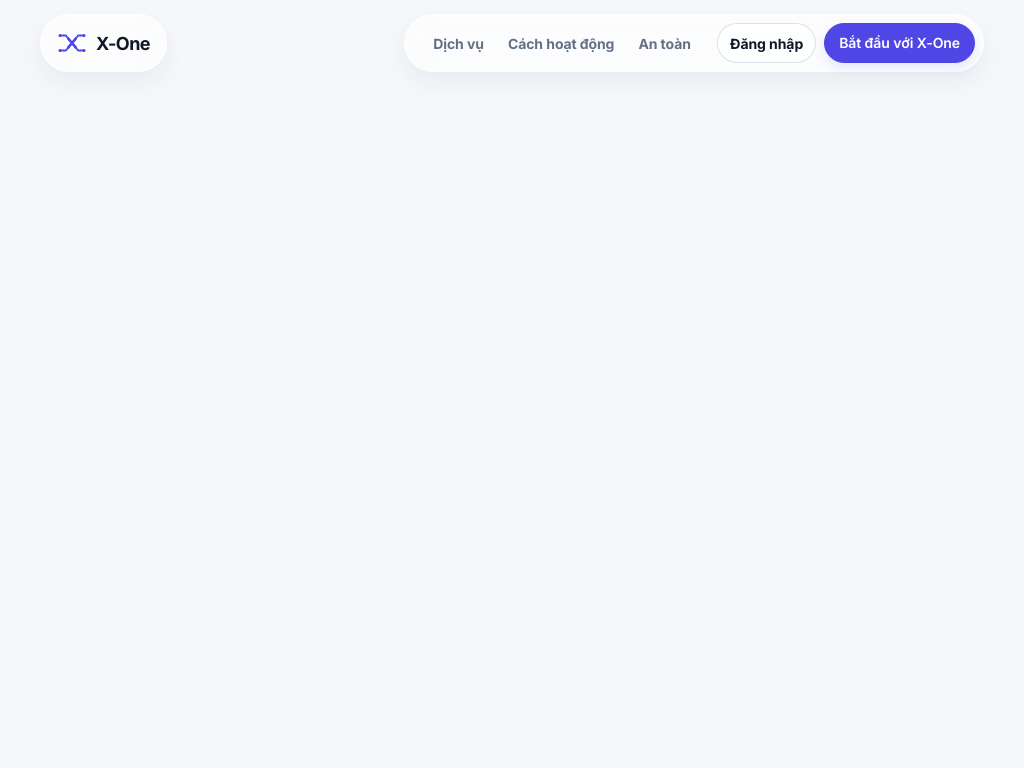
marketing authentication dialog › closes and routes incomplete accounts to onboarding after a successful modal login
Step 1. Click the button "Đăng nhập" → (767, 43), box [717,23,816,63]
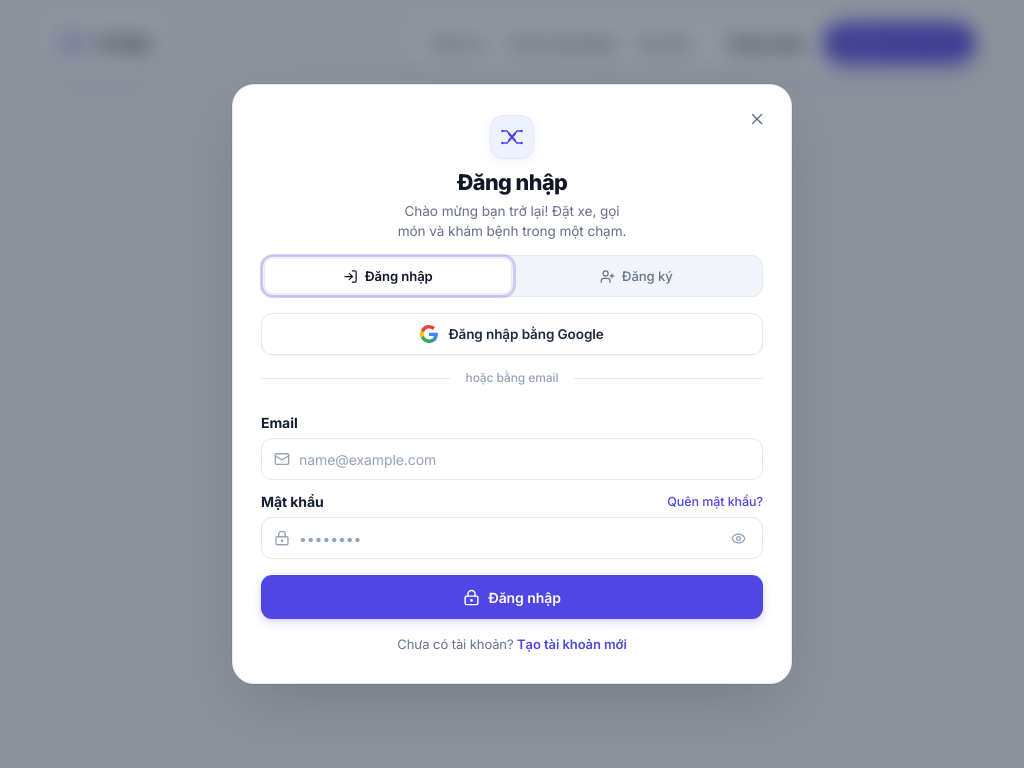
Step 2. Type "an@example.test" into the field labelled "Email" → (526, 459), box [299,439,752,479]
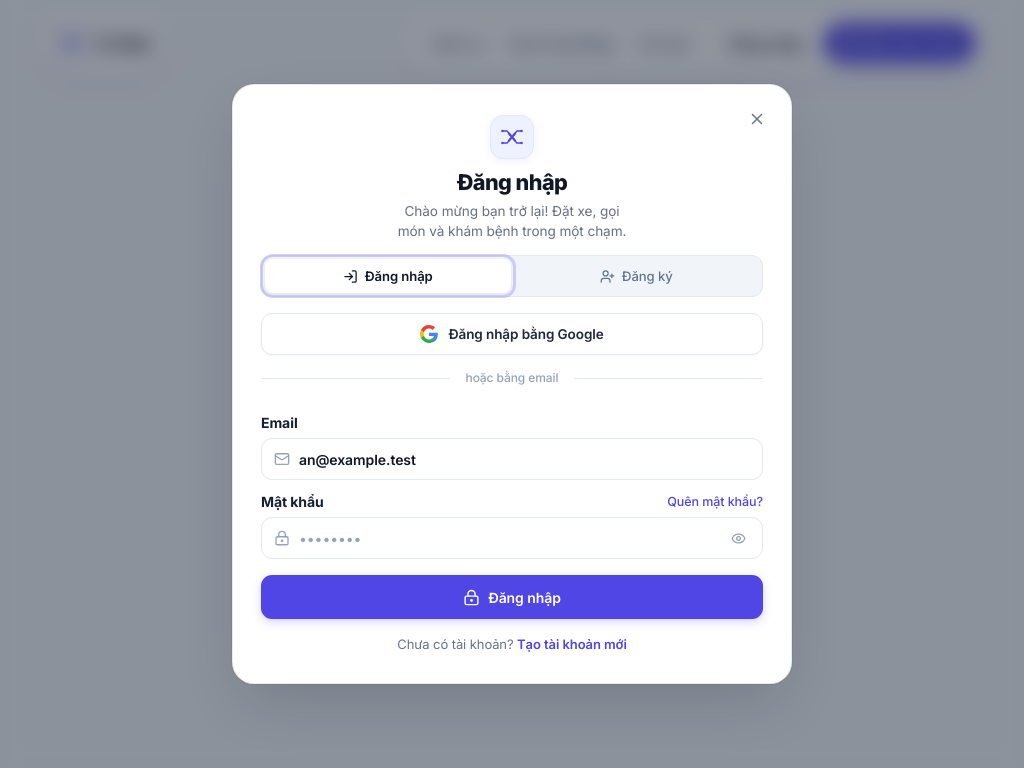
Step 3. Type "a reliable local passphrase" into the password field labelled "Mật khẩu" → (507, 538), box [299,518,715,558]
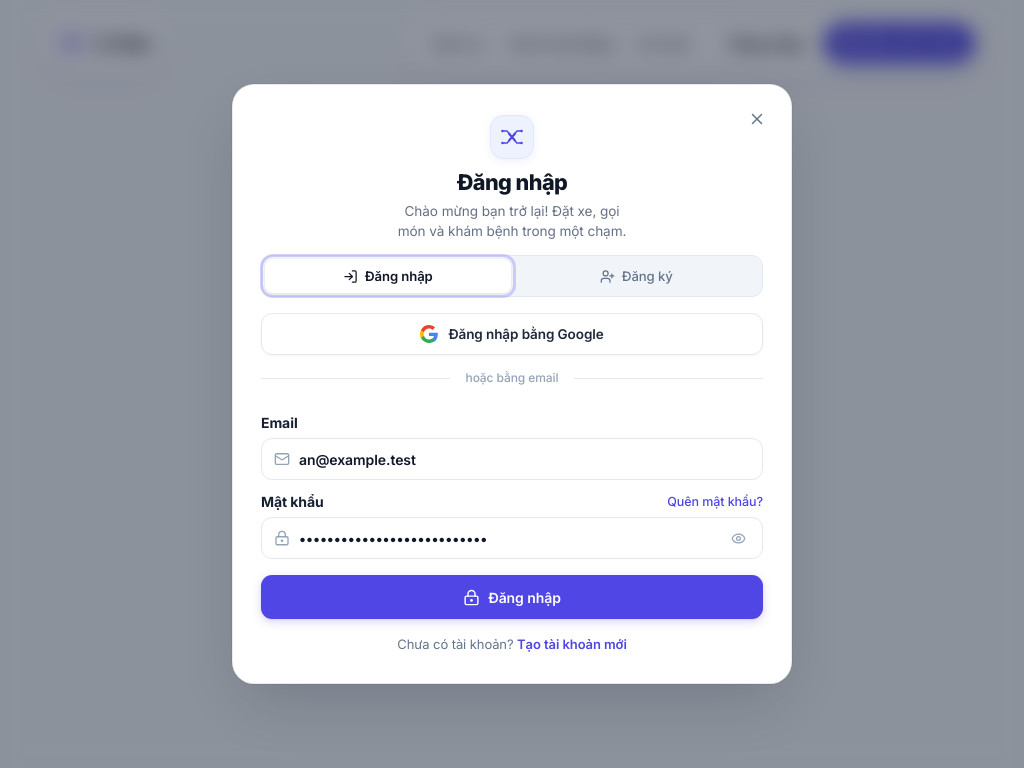
Step 4. Submit the form "Đăng nhập", box [261,401,763,619]
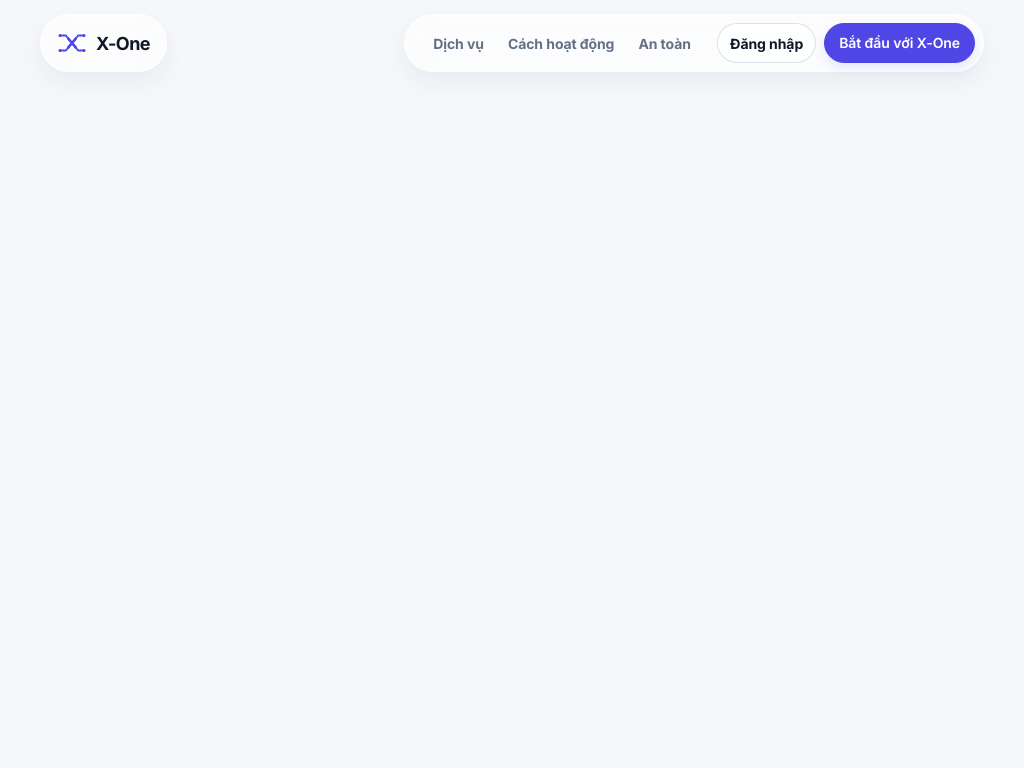
Check: the dialog is gone
